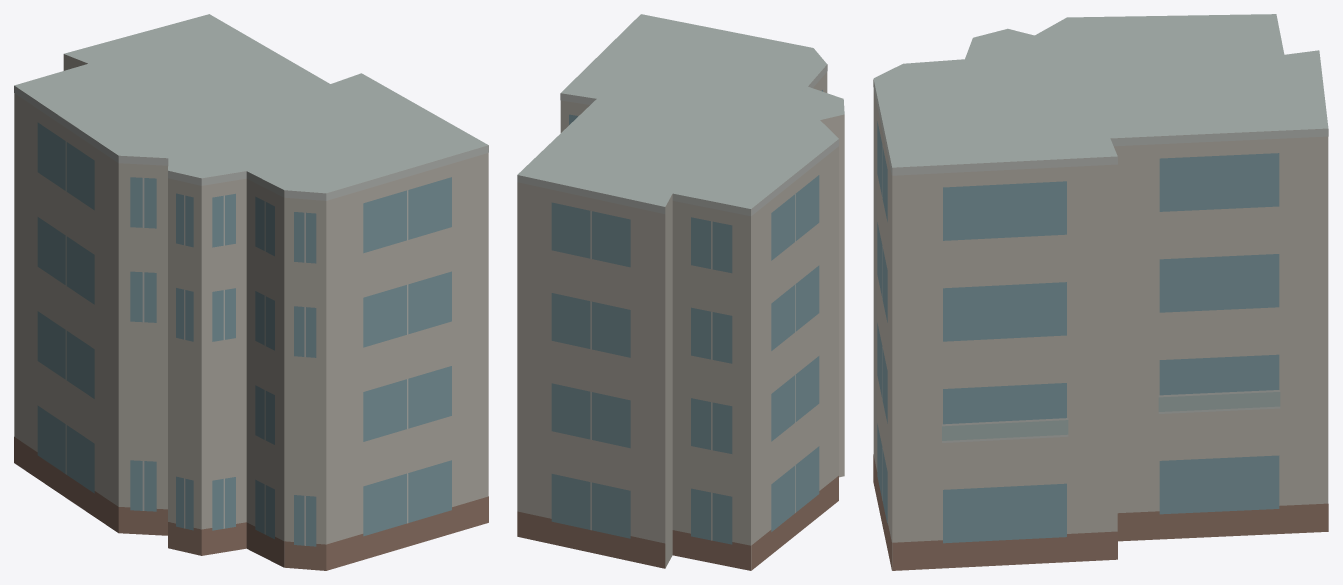
File: survey-upis-32641018.glb
3 views of the same model, side by side, from view 1: azimuth 30°, elevation 25°; view 2: azimuth 150°, elevation 25°; view 3: azimuth 270°, elevation 25° (orthographic). The views are drawn at different scales.
Visible parts, largest first — view 1: survey-upis-32641018.tmp; view 2: survey-upis-32641018.tmp; view 3: survey-upis-32641018.tmp.
Boxes of the visible parts, <box> form: survey-upis-32641018.tmp: <box>14,14,488,570</box>; survey-upis-32641018.tmp: <box>517,14,844,570</box>; survey-upis-32641018.tmp: <box>873,14,1328,570</box>.
Bounding box in the file's own units: 9.98 × 12.2 × 12.49.
